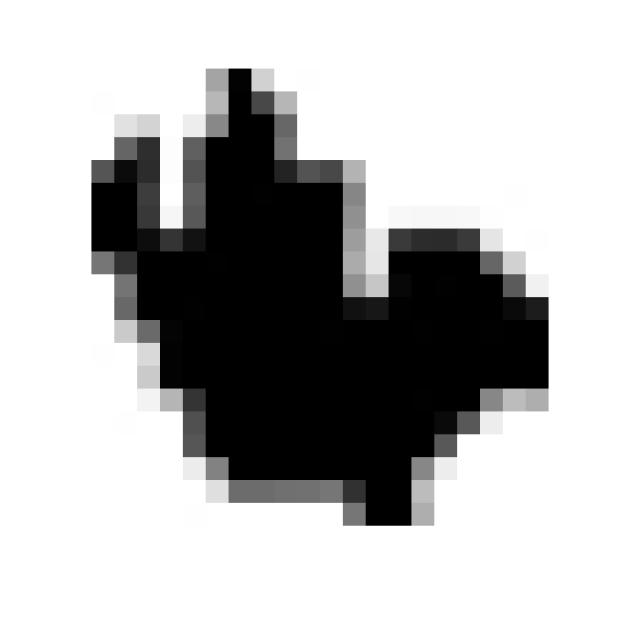0 -zero-: (64, 53, 566, 538)
